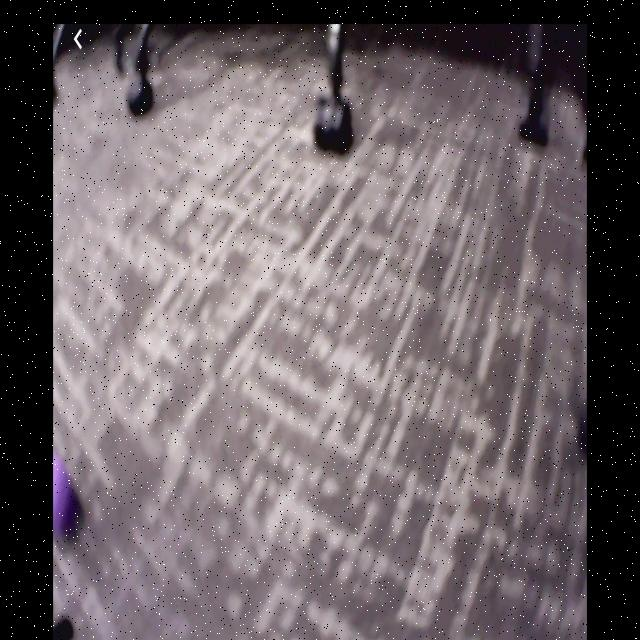ball: (55, 459, 71, 533)
